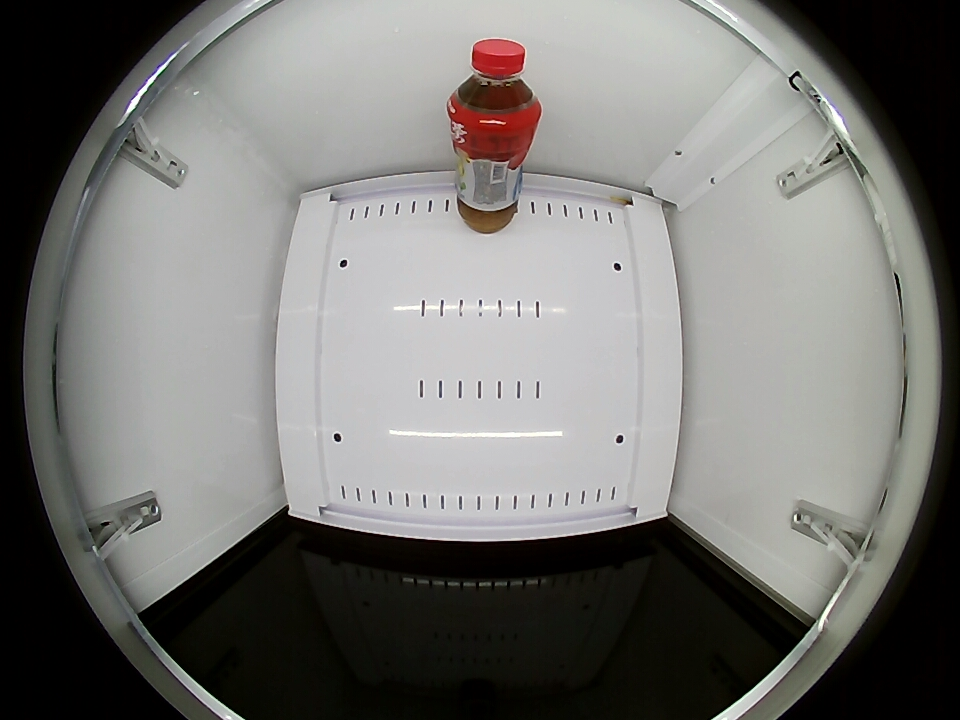binghongcha: (448, 38, 540, 131)
